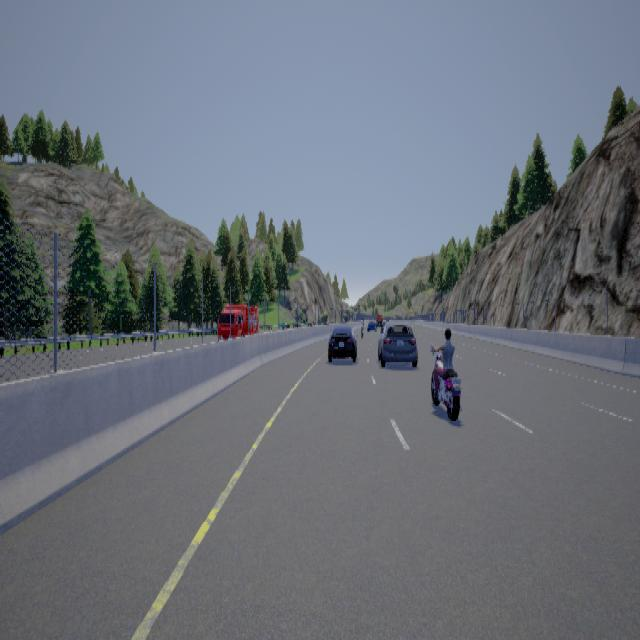motobike: (430, 324, 466, 419)
vehicle: (366, 314, 417, 366), (216, 298, 260, 337), (327, 325, 356, 360)
